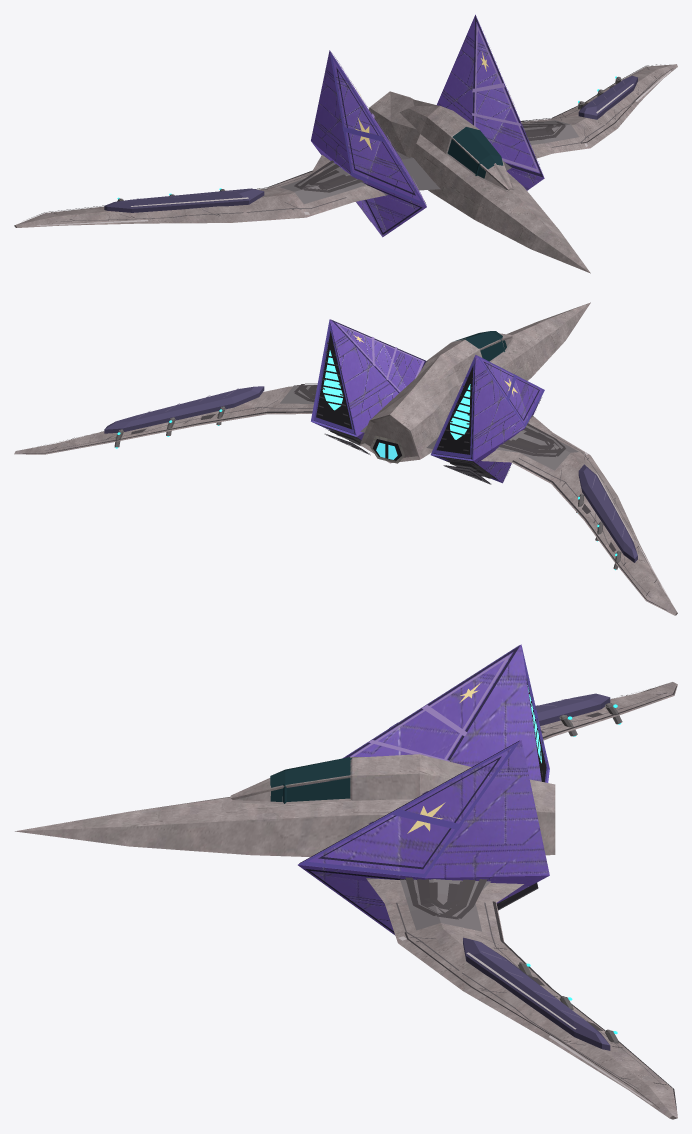
File: starfighter.glb
3 views of the same model, one above another, from view 1: azimuth 30°, elevation 25°; view 2: azimuth 150°, elevation 25°; view 3: azimuth 270°, elevation 25° (orthographic). The views are drawn at different scales.
Parts seen in each view (by area): view 1: Starfighter; view 2: Starfighter; view 3: Starfighter.
Boxes of the visible parts, x1,y1,x2,y2 form: Starfighter: (14, 14, 677, 273); Starfighter: (14, 302, 677, 615); Starfighter: (15, 644, 677, 1119).
Bounding box in the file's own units: 15.18 × 3.54 × 9.81.
30 materials, 4 textured.
